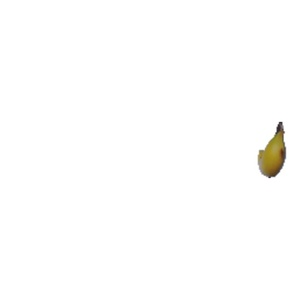banana: (251, 118, 293, 178)
